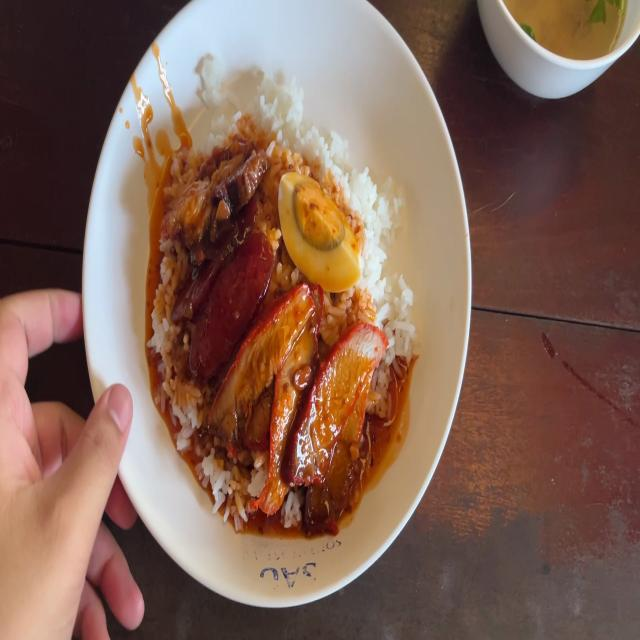01boiled_egg: (279, 168, 362, 296)
01chainese_sausage: (178, 230, 267, 362)
01crispy_pork: (166, 149, 264, 239)
01red_pork: (235, 304, 372, 478)
01red_pork_and_crispy_pork: (158, 82, 397, 505)
01rice: (237, 82, 325, 158), (365, 218, 414, 336)
